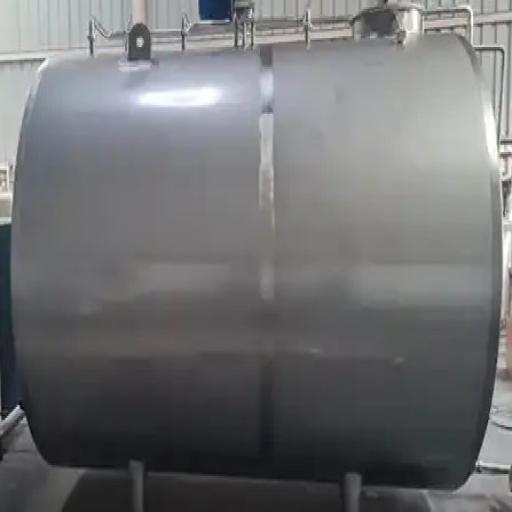silo: (8, 6, 503, 510)
